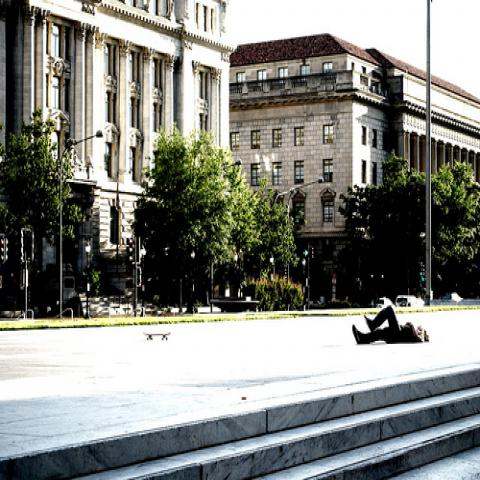car: (395, 296, 418, 306), (99, 302, 109, 316)
